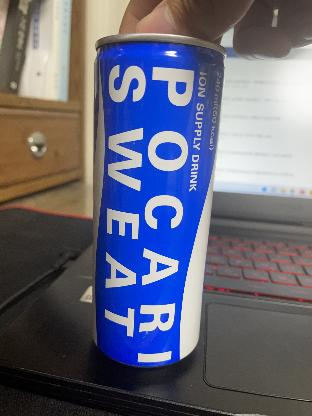Can: (89, 31, 229, 370)
